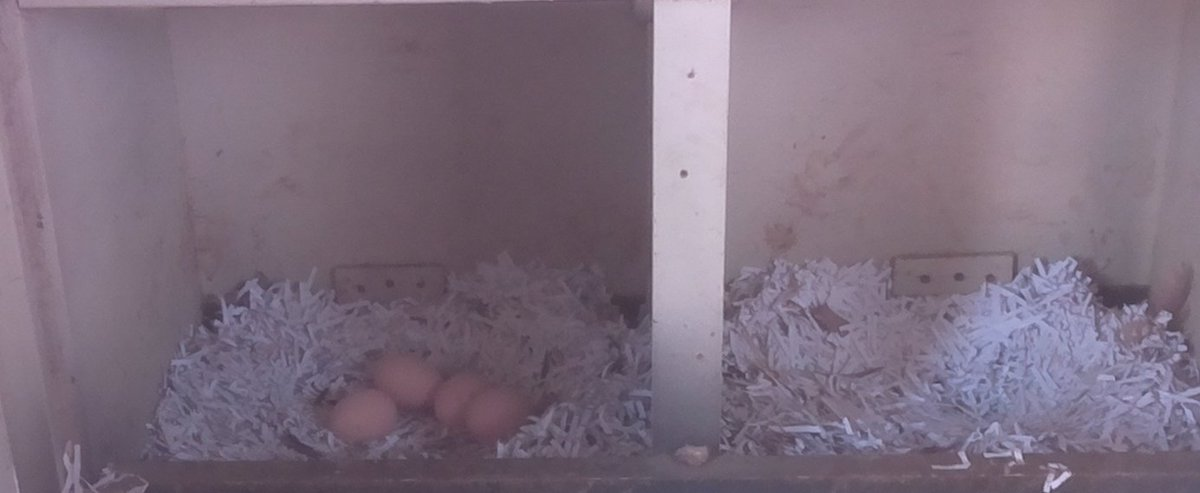egg: (327, 385, 404, 451), (460, 379, 538, 444), (368, 350, 443, 412), (430, 364, 495, 425)
